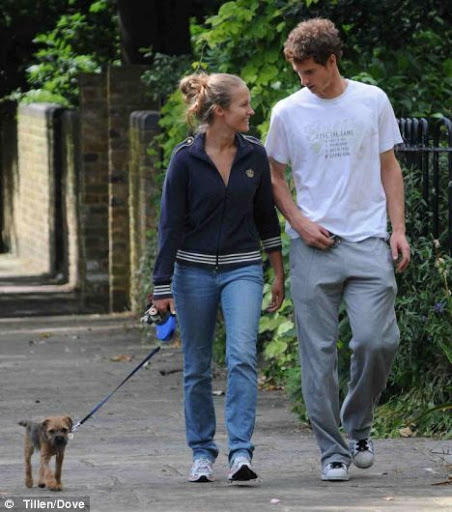Person: (271, 18, 412, 482), (152, 71, 285, 481)
